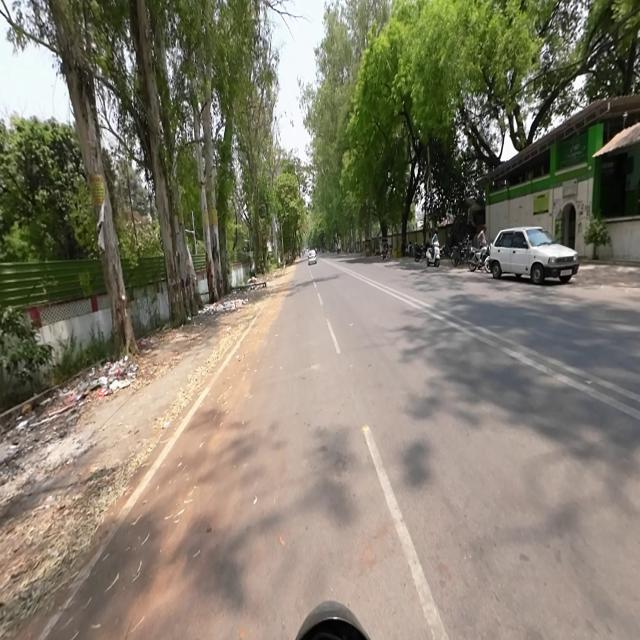Garbage: (74, 360, 141, 405), (205, 298, 252, 316)
